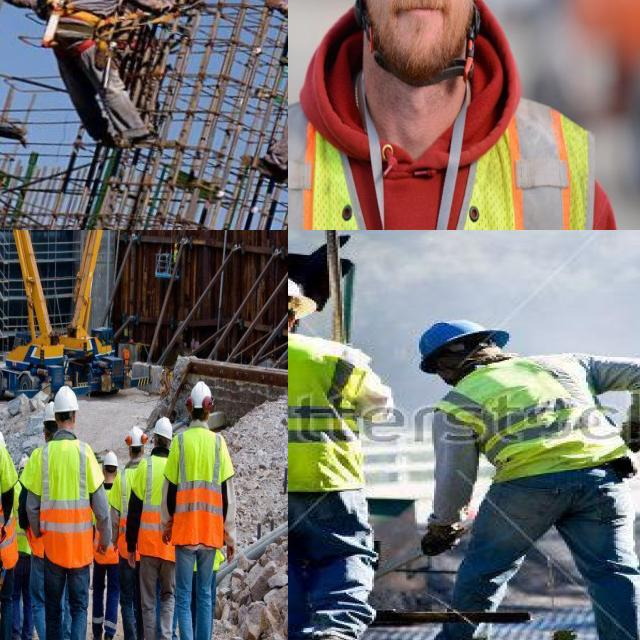Harness: (42, 0, 102, 44)
face_nomask: (353, 0, 491, 71)
hand_glove: (415, 512, 466, 560), (615, 417, 640, 460)
head_helmet: (415, 318, 511, 360), (288, 271, 318, 316), (54, 384, 80, 416), (188, 380, 213, 410), (152, 416, 174, 442), (126, 427, 149, 451), (102, 451, 118, 469), (42, 402, 56, 421), (0, 427, 4, 441)
person: (288, 0, 640, 230), (409, 318, 640, 640), (288, 271, 395, 640), (171, 383, 236, 640), (41, 387, 97, 640), (130, 416, 175, 640), (92, 451, 122, 640), (12, 455, 35, 640)
shoes: (103, 633, 116, 640)
vest: (288, 83, 591, 230), (462, 365, 624, 481), (288, 336, 363, 483), (36, 436, 98, 566), (166, 428, 228, 550), (136, 453, 174, 562), (115, 468, 140, 561)
